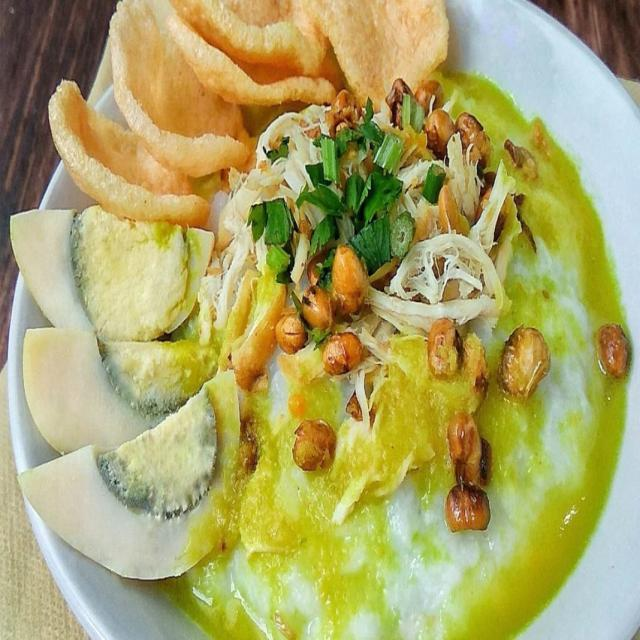bubur ayam: (142, 64, 632, 639)
mangkuk: (12, 0, 640, 640)
telur rebus: (16, 367, 244, 585), (20, 327, 222, 459), (11, 208, 204, 340)
